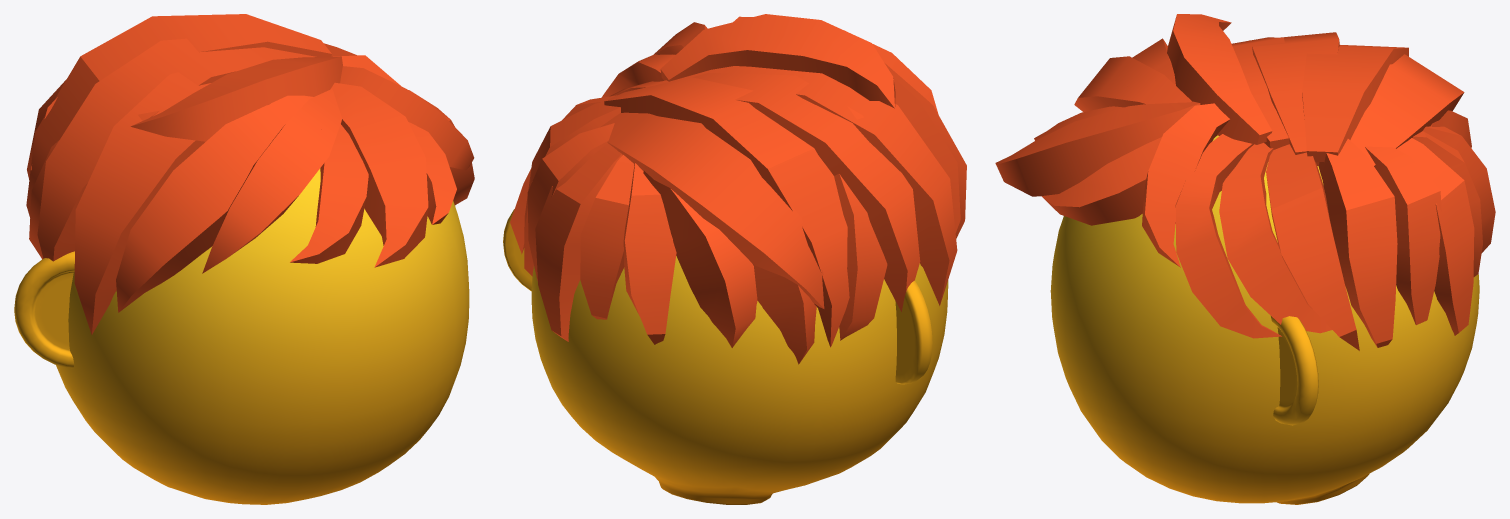
Rendered from red_hair.glb.
The picture shows the model from 3 angles, left to right: view 1: azimuth 30°, elevation 25°; view 2: azimuth 150°, elevation 25°; view 3: azimuth 270°, elevation 25°; orthographic projection. The views are drawn at different scales.
Parts seen in each view (by area): view 1: Cube.014, Roundcube.440, Cylinder.006; view 2: Cube.014, Roundcube.440, Cylinder.006; view 3: Cube.014, Roundcube.440, Cylinder.006.
Part boxes in pixels (x1=…): Cube.014: x1=26, y1=14, x2=474, y2=334; Roundcube.440: x1=56, y1=168, x2=469, y2=504; Cylinder.006: x1=14, y1=205, x2=455, y2=368; Cube.014: x1=510, y1=14, x2=966, y2=364; Roundcube.440: x1=531, y1=256, x2=948, y2=504; Cylinder.006: x1=503, y1=209, x2=932, y2=384; Cube.014: x1=995, y1=14, x2=1495, y2=350; Roundcube.440: x1=1050, y1=135, x2=1479, y2=504; Cylinder.006: x1=1271, y1=316, x2=1318, y2=425.
Bounding box in the file's own units: 1.76 × 1.73 × 1.77.
1 material, 1 textured.
